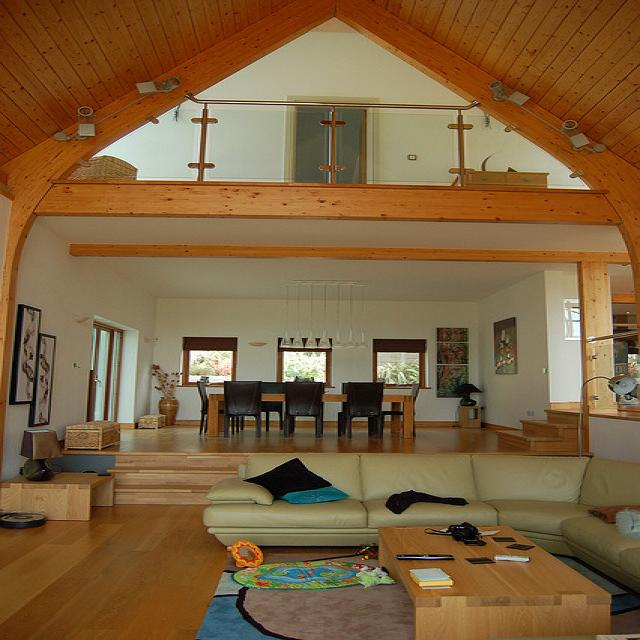chair: (335, 382, 387, 439), (219, 379, 263, 439), (285, 382, 322, 437), (196, 380, 209, 436), (411, 383, 419, 436), (261, 382, 286, 394)
dining table: (208, 388, 415, 438)
